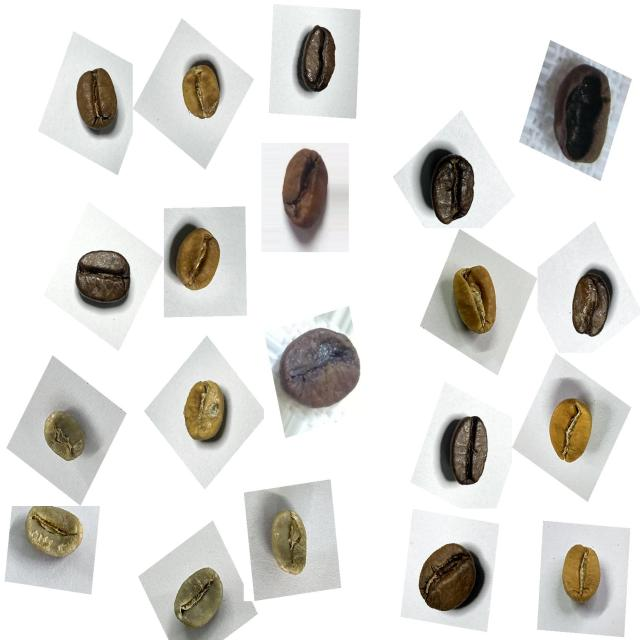bad: (534, 50, 624, 177), (272, 312, 375, 422), (268, 142, 342, 248)
dark: (412, 139, 489, 232), (431, 403, 501, 497), (67, 239, 141, 320), (283, 18, 349, 106), (559, 260, 623, 348)
green: (254, 497, 323, 589), (163, 556, 236, 640), (18, 500, 94, 573), (34, 402, 97, 476)
light: (443, 254, 512, 349), (166, 216, 236, 306), (539, 388, 604, 477), (172, 370, 238, 455), (552, 532, 614, 616), (171, 53, 234, 134)
medium: (407, 532, 489, 626), (64, 61, 129, 146)
